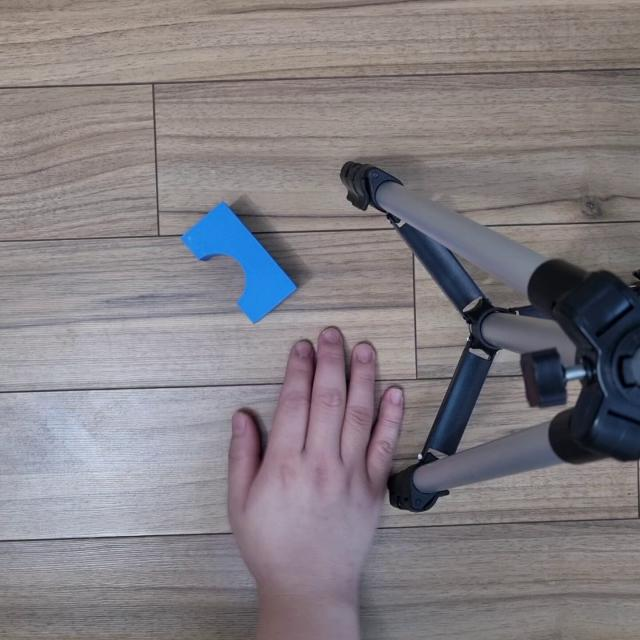block: (172, 202, 302, 324)
hand: (210, 322, 410, 605)
